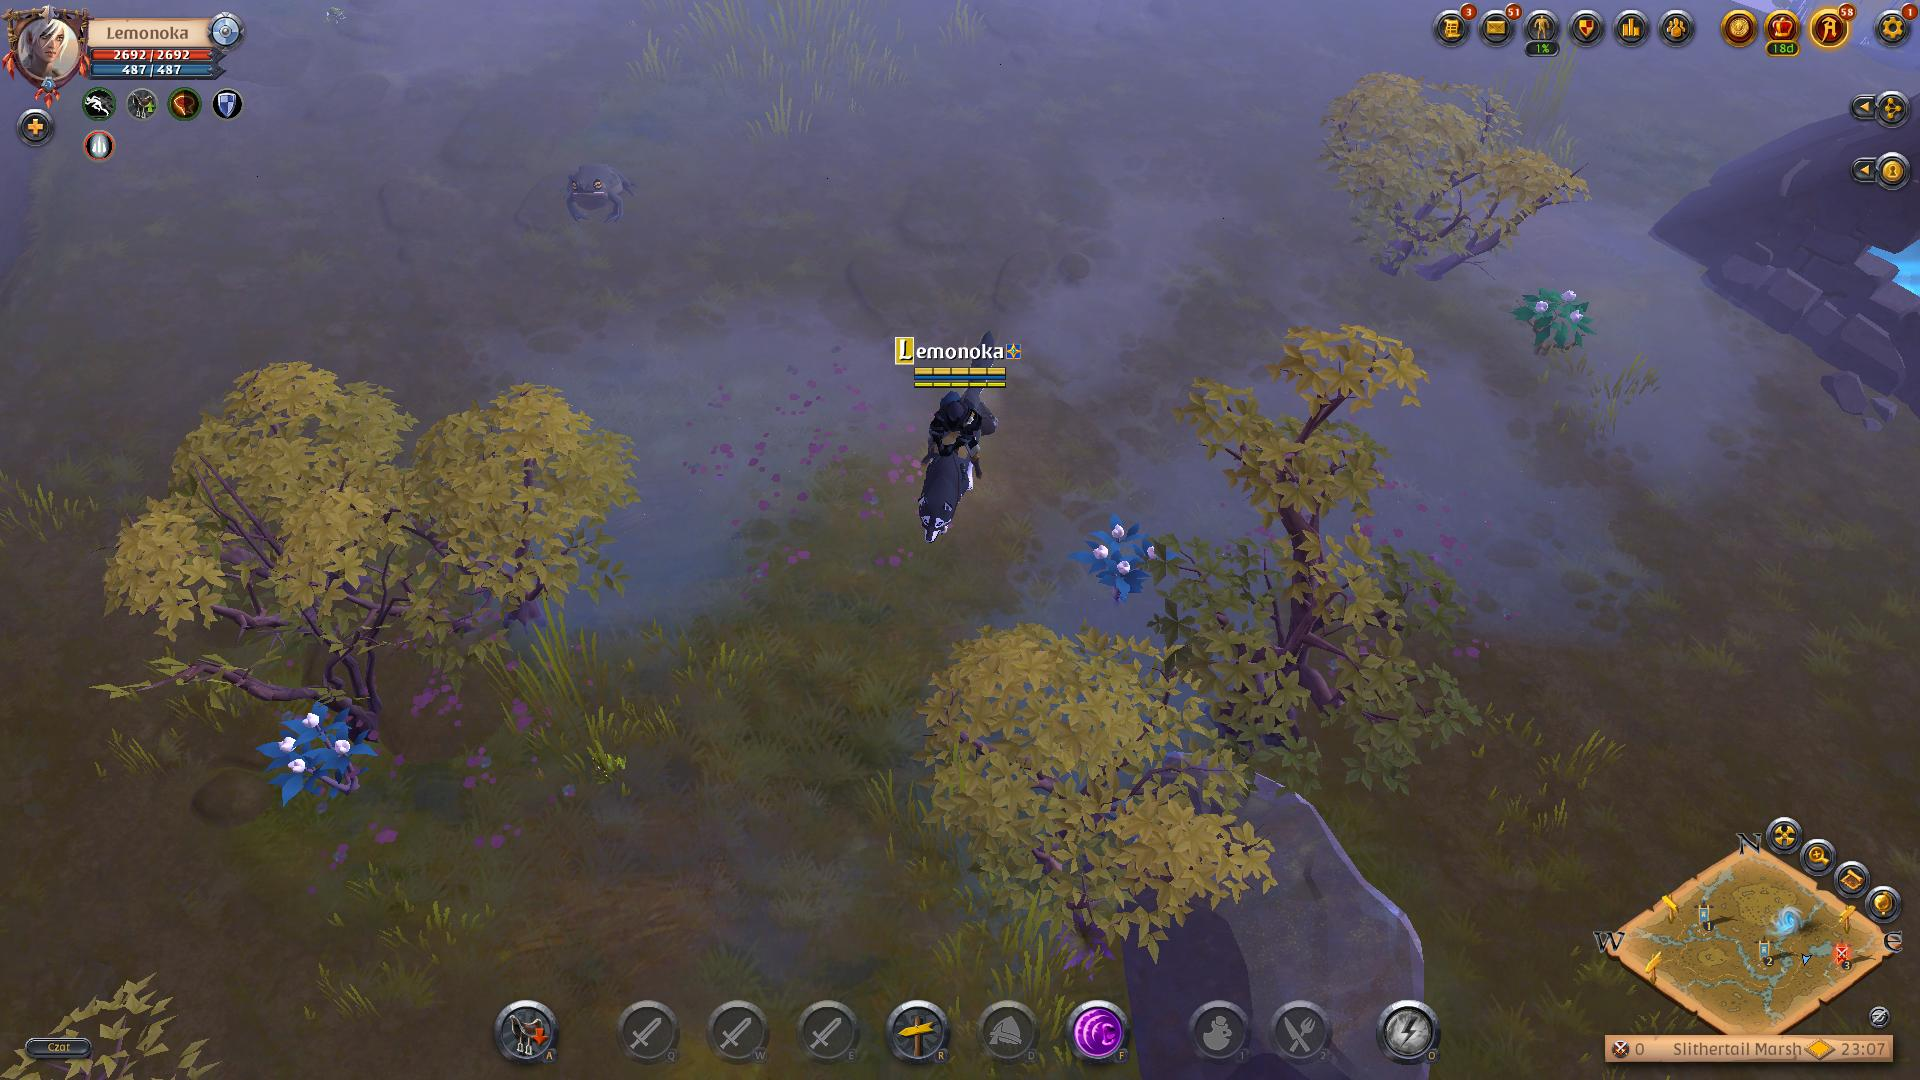fiber tier 3: (1510, 272, 1597, 367)
fiber tier 4: (253, 696, 384, 814), (1069, 510, 1182, 608)
